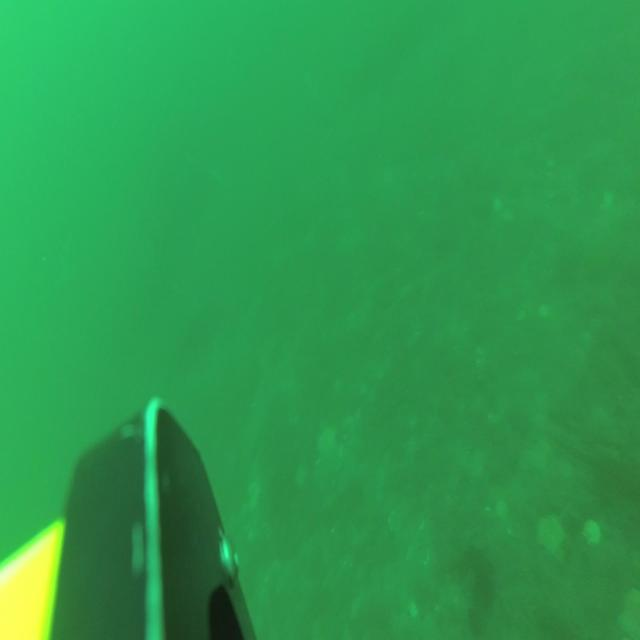scallop: (582, 515, 602, 549)
starfish: (535, 509, 564, 561), (316, 424, 339, 464)
